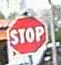stop: (6, 14, 50, 53)
